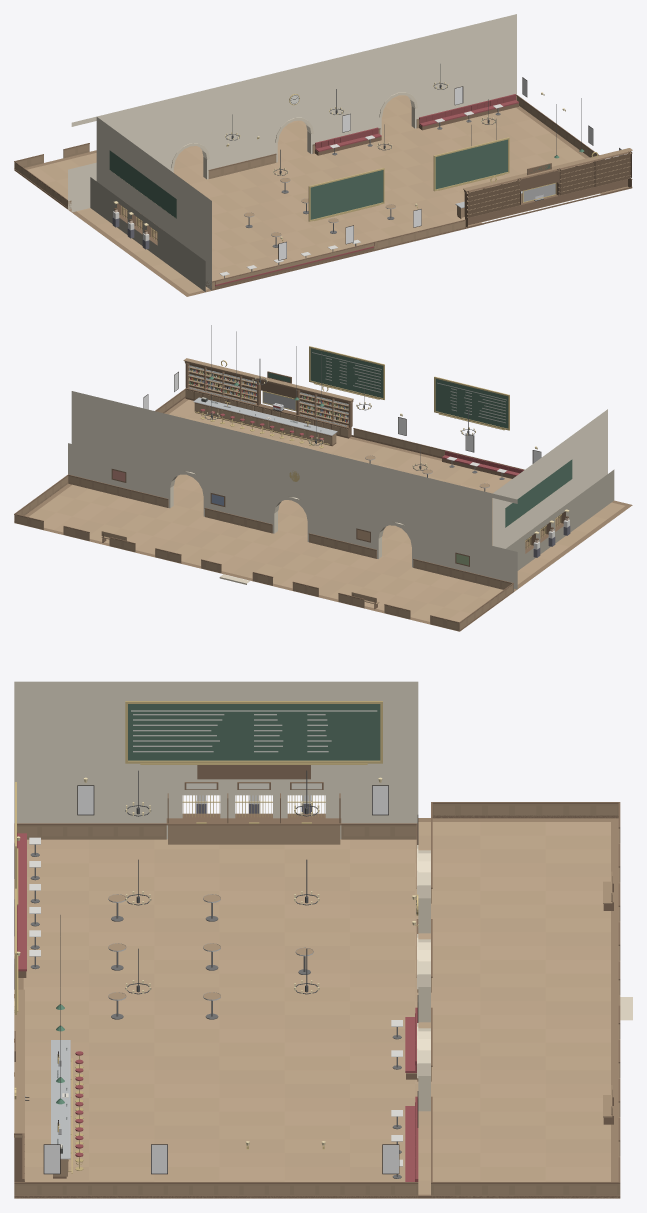
The model's file is SM_BM_BHip_SalonHall.glb.
The picture shows the model from 3 angles, top to bottom: view 1: azimuth 30°, elevation 25°; view 2: azimuth 150°, elevation 25°; view 3: azimuth 270°, elevation 25°; orthographic projection. The views are drawn at different scales.
Parts seen in each view (by area): view 1: SM_BM_BHip_SalonHall; view 2: SM_BM_BHip_SalonHall; view 3: SM_BM_BHip_SalonHall.
Boxes of the visible parts, x1=… form: SM_BM_BHip_SalonHall: x1=14, y1=14, x2=632, y2=296; SM_BM_BHip_SalonHall: x1=14, y1=325, x2=632, y2=631; SM_BM_BHip_SalonHall: x1=14, y1=681, x2=632, y2=1198.
Size of the model in its own units: 42.85 by 8.55 by 29.41.
